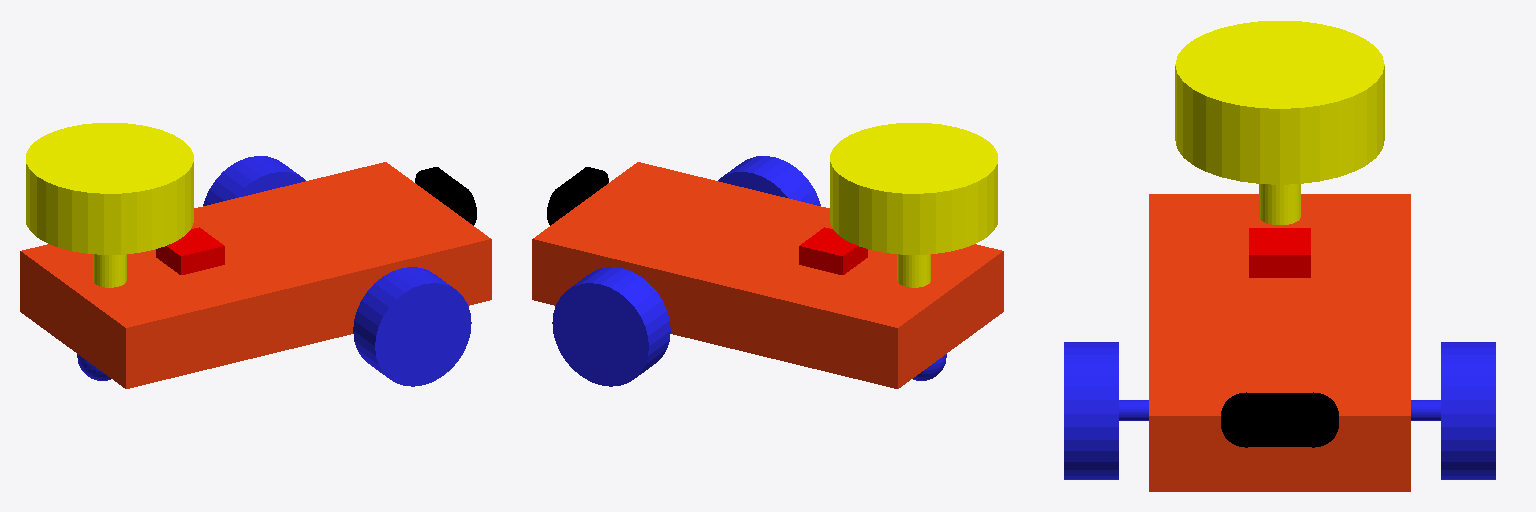
--- Render facts (derived) ---
3 views of the same robot in one strip: view 1: azimuth 30°, elevation 25°; view 2: azimuth 150°, elevation 25°; view 3: azimuth 270°, elevation 25° (orthographic).
Model robot with 17 links and 16 joints (6 revolute, 2 continuous, 8 fixed), rooted at base_link, posed all joints at 0.
Links seen in each view (by area): view 1: chassis, laser_frame, right_wheel, left_wheel, imu_link, camera_link; view 2: chassis, laser_frame, left_wheel, right_wheel, imu_link, camera_link; view 3: chassis, laser_frame, left_wheel, right_wheel, camera_link, imu_link.
Boxes of the visible links, x1,y1,x2,y2 form: chassis: [20, 162, 491, 388]; laser_frame: [26, 123, 193, 287]; right_wheel: [353, 267, 471, 386]; left_wheel: [203, 156, 305, 205]; imu_link: [156, 227, 224, 274]; camera_link: [415, 167, 476, 225]; chassis: [532, 162, 1003, 388]; laser_frame: [830, 123, 997, 287]; left_wheel: [552, 267, 670, 386]; right_wheel: [718, 156, 820, 205]; imu_link: [799, 227, 867, 274]; camera_link: [547, 167, 608, 225]; chassis: [1149, 194, 1410, 491]; laser_frame: [1175, 21, 1384, 224]; left_wheel: [1411, 342, 1495, 479]; right_wheel: [1064, 342, 1148, 479]; camera_link: [1221, 392, 1338, 447]; imu_link: [1249, 228, 1310, 277].
Size in the robot's own frame: 0.285 by 0.206 by 0.143 metres.
Geometry: only primitive shapes (box / cylinder / sphere) drawn; not drawn: 7 mesh visuals (reference in a form the renderer does not follow).

The robot description file, URDF, robot "robot":
<?xml version="1.0" ?>
<!-- =================================================================================== -->
<!-- |    This document was autogenerated by xacro from ./src/articubot_one/description/robot.urdf.xacro | -->
<!-- |    EDITING THIS FILE BY HAND IS NOT RECOMMENDED                                 | -->
<!-- =================================================================================== -->
<robot name="robot">
  <!-- Specify some standard inertial calculations https://en.wikipedia.org/wiki/List_of_moments_of_inertia -->
  <!-- These make use of xacro's mathematical functionality -->
  <material name="white">
    <color rgba="1 1 1 1"/>
  </material>
  <material name="orange">
    <color rgba="1 0.3 0.1 1"/>
  </material>
  <material name="blue">
    <color rgba="0.2 0.2 1 1"/>
  </material>
  <material name="black">
    <color rgba="0 0 0 1"/>
  </material>
  <material name="red">
    <color rgba="1 0 0 1"/>
  </material>
  <material name="yellow">
    <color rgba="1 1 0 1"/>
  </material>
  <material name="green">
    <color rgba="0 1 0 1"/>
  </material>
  <material name="grey">
    <color rgba="0.2 0.2 0.2 1.0"/>
  </material>
  <material name="brown">
    <color rgba="0.8705882352941177 0.8117647058823529 0.7647058823529411 1.0"/>
  </material>
  <!-- BASE LINK -->
  <link name="base_link">

    </link>
  <!-- BASE_FOOTPRINT LINK -->
  <joint name="base_footprint_joint" type="fixed">
    <parent link="base_link"/>
    <child link="base_footprint"/>
    <origin rpy="0 0 0" xyz="0 0 0"/>
  </joint>
  <link name="base_footprint">
    </link>
  <!-- CHASSIS LINK -->
  <joint name="chassis_joint" type="fixed">
    <parent link="base_link"/>
    <child link="chassis"/>
    <origin xyz="-0.18 0 -0.01"/>
  </joint>
  <link name="chassis">
    <visual>
      <origin xyz="0.125 0 0.02"/>
      <geometry>
        <box size="0.25 0.125 0.04"/>
      </geometry>
      <material name="orange"/>
    </visual>
    <collision>
      <origin xyz="0.125 0 0.02"/>
      <geometry>
        <box size="0.25 0.125 0.04"/>
      </geometry>
    </collision>
    <inertial>
      <origin rpy="0 0 0" xyz="0.125 0 0.02"/>
      <mass value="2.0"/>
      <inertia ixx="0.0028708333333333333" ixy="0.0" ixz="0.0" iyy="0.010683333333333333" iyz="0.0" izz="0.013020833333333332"/>
    </inertial>
  </link>
  <gazebo reference="chassis">
    <material>Gazebo/Orange</material>
  </gazebo>
  <!-- <joint name="chassis_extension_joint" type="fixed">
        <parent link="chassis"/>
        <child link="chassis_extension"/>
        <origin xyz="${chassis_length} 0 ${wheel_radius}"/>
    </joint>

    <link name="chassis_extension">
        <visual>
            <origin xyz="${chassis_extension_length/2} 0 ${chassis_extension_height/2}"/>
            <geometry>
                <box size="${chassis_extension_length} ${chassis_width} ${chassis_extension_height}"/>
            </geometry>
            <material name="orange"/>
        </visual>
        <collision>
            <origin xyz="${chassis_extension_length/2} 0 ${chassis_extension_height/2}"/>
            <geometry>
                <box size="${chassis_extension_length} ${chassis_width} ${chassis_extension_height}"/>
            </geometry>
        </collision>
        <xacro:inertial_box mass="0.01" x="${chassis_extension_length}" y="${chassis_width}" z="${chassis_extension_height}">
            <origin xyz="${chassis_extension_length/2} 0 ${chassis_extension_height/2}" rpy="0 0 0"/>
        </xacro:inertial_box>
    </link>

    <gazebo reference="chassis_extension">
        <material>Gazebo/Orange</material>
    </gazebo> -->
  <!-- LEFT WHEEL LINK -->
  <joint name="left_wheel_joint" type="continuous">
    <parent link="base_link"/>
    <child link="left_wheel"/>
    <origin rpy="-1.5707963267948966 0 0" xyz="0 0.09 0"/>
    <axis xyz="0 0 1"/>
  </joint>
  <link name="left_wheel">
    <visual>
      <geometry>
        <cylinder length="0.026" radius="0.033"/>
      </geometry>
      <material name="blue"/>
    </visual>
    <visual>
      <origin rpy="0 0 0" xyz="0 0 -0.013"/>
      <geometry>
        <cylinder length="0.03" radius="0.005"/>
      </geometry>
      <material name="blue"/>
    </visual>
    <collision>
      <geometry>
        <sphere radius="0.033"/>
      </geometry>
    </collision>
    <inertial>
      <origin rpy="0 0 0" xyz="0 0 0"/>
      <mass value="0.05"/>
      <inertia ixx="1.642916666666667e-05" ixy="0.0" ixz="0.0" iyy="1.642916666666667e-05" iyz="0.0" izz="2.7225000000000004e-05"/>
    </inertial>
  </link>
  <gazebo reference="left_wheel">
    <material>Gazebo/Blue</material>
  </gazebo>
  <!-- RIGHT WHEEL LINK -->
  <joint name="right_wheel_joint" type="continuous">
    <parent link="base_link"/>
    <child link="right_wheel"/>
    <origin rpy="1.5707963267948966 0 0" xyz="0 -0.09 0"/>
    <axis xyz="0 0 -1"/>
  </joint>
  <link name="right_wheel">
    <visual>
      <geometry>
        <cylinder length="0.026" radius="0.033"/>
      </geometry>
      <material name="blue"/>
    </visual>
    <visual>
      <origin rpy="0 0 0" xyz="0 0 -0.013"/>
      <geometry>
        <cylinder length="0.03" radius="0.005"/>
      </geometry>
      <material name="blue"/>
    </visual>
    <collision>
      <geometry>
        <sphere radius="0.033"/>
      </geometry>
    </collision>
    <inertial>
      <origin rpy="0 0 0" xyz="0 0 0"/>
      <mass value="0.05"/>
      <inertia ixx="1.642916666666667e-05" ixy="0.0" ixz="0.0" iyy="1.642916666666667e-05" iyz="0.0" izz="2.7225000000000004e-05"/>
    </inertial>
  </link>
  <gazebo reference="right_wheel">
    <material>Gazebo/Blue</material>
  </gazebo>
  <!-- CASTER WHEEL LINK -->
  <joint name="caster_wheel_joint" type="fixed">
    <parent link="chassis"/>
    <child link="caster_wheel"/>
    <origin xyz="0.02 0 -0.008"/>
  </joint>
  <link name="caster_wheel">
    <visual>
      <geometry>
        <sphere radius="0.015"/>
      </geometry>
      <material name="blue"/>
    </visual>
    <collision>
      <geometry>
        <sphere radius="0.015"/>
      </geometry>
    </collision>
    <inertial>
      <origin rpy="0 0 0" xyz="0 0 0"/>
      <mass value="0.01"/>
      <inertia ixx="9e-07" ixy="0.0" ixz="0.0" iyy="9e-07" iyz="0.0" izz="9e-07"/>
    </inertial>
  </link>
  <gazebo reference="caster_wheel">
    <material>Gazebo/Blue</material>
    <mu1 value="0.001"/>
    <mu2 value="0.001"/>
  </gazebo>
  <ros2_control name="RealRobot" type="system">
    <hardware>
      <plugin>ros2_control_demo_example_2/DiffBotSystemHardware</plugin>
      <param name="example_param_hw_start_duration_sec">0</param>
      <param name="example_param_hw_stop_duration_sec">3.0</param>
    </hardware>
    <joint name="left_wheel_joint">
      <command_interface name="velocity"/>
      <state_interface name="position"/>
      <state_interface name="velocity"/>
    </joint>
    <joint name="right_wheel_joint">
      <command_interface name="velocity"/>
      <state_interface name="position"/>
      <state_interface name="velocity"/>
    </joint>
  </ros2_control>
  <ros2_control name="RealRobotArm" type="system">
    <hardware>
      <plugin>ros2_control_demo_example_1/RRBotSystemPositionOnlyHardware</plugin>
      <param name="example_param_hw_start_duration_sec">0</param>
      <param name="example_param_hw_stop_duration_sec">3.0</param>
      <param name="example_param_hw_slowdown">1.0</param>
    </hardware>
    <joint name="base_waist_joint">
      <command_interface name="position">
        <param name="min">-1</param>
        <param name="max">1</param>
      </command_interface>
      <state_interface name="position"/>
    </joint>
    <joint name="shoulder_joint">
      <command_interface name="position">
        <param name="min">-1</param>
        <param name="max">1</param>
      </command_interface>
      <state_interface name="position"/>
    </joint>
    <joint name="elbow_joint">
      <command_interface name="position">
        <param name="min">-1</param>
        <param name="max">1</param>
      </command_interface>
      <state_interface name="position"/>
    </joint>
    <joint name="wrist_joint">
      <command_interface name="position">
        <param name="min">-1</param>
        <param name="max">1</param>
      </command_interface>
      <state_interface name="position"/>
    </joint>
    <joint name="gripper1_joint">
      <command_interface name="position">
        <param name="min">-1</param>
        <param name="max">1</param>
      </command_interface>
      <state_interface name="position"/>
    </joint>
    <joint name="gripper2_joint">
      <command_interface name="position">
        <param name="min">-1</param>
        <param name="max">1</param>
      </command_interface>
      <state_interface name="position"/>
    </joint>
  </ros2_control>
  <gazebo>
    <plugin filename="libgazebo_ros2_control.so" name="gazebo_ros2_control">
      <parameters>[local-path]/Documents/Projects/pinecone_pi4_ws/install/articubot_one/share/articubot_one/config/my_controllers.yaml</parameters>
      <parameters>[local-path]/Documents/Projects/pinecone_pi4_ws/install/articubot_one/share/articubot_one/config/gaz_ros2_ctl_use_sim.yaml</parameters>
      <!-- <parameters>$(find arduino_arm_config)/config/ros2_controllers.yaml</parameters> -->
      <!-- <parameters>$(find articubot_one)/config/forward_position_publisher.yaml</parameters> -->
    </plugin>
  </gazebo>
  <joint name="laser_joint" type="fixed">
    <parent link="chassis"/>
    <child link="laser_frame"/>
    <origin rpy="0 0 0" xyz="0.025 0 0.10"/>
  </joint>
  <link name="laser_frame">
    <visual>
      <geometry>
        <cylinder length="0.04" radius="0.05"/>
      </geometry>
      <material name="yellow"/>
    </visual>
    <visual>
      <origin xyz="0 0 -0.05"/>
      <geometry>
        <cylinder length="0.1" radius="0.01"/>
      </geometry>
      <material name="yellow"/>
    </visual>
    <collision>
      <geometry>
        <cylinder length="0.04" radius="0.05"/>
      </geometry>
    </collision>
    <inertial>
      <origin rpy="0 0 0" xyz="0 0 0"/>
      <mass value="0.1"/>
      <inertia ixx="7.583333333333335e-05" ixy="0.0" ixz="0.0" iyy="7.583333333333335e-05" iyz="0.0" izz="0.00012500000000000003"/>
    </inertial>
  </link>
  <gazebo reference="laser_frame">
    <material>Gazebo/Yellow</material>
    <sensor name="laser" type="ray">
      <pose> 0 0 0 0 0 0 </pose>
      <visualize>false</visualize>
      <update_rate>10</update_rate>
      <ray>
        <scan>
          <horizontal>
            <samples>360</samples>
            <min_angle>-3.14</min_angle>
            <max_angle>3.14</max_angle>
          </horizontal>
        </scan>
        <range>
          <min>0.3</min>
          <max>12</max>
        </range>
      </ray>
      <plugin filename="libgazebo_ros_ray_sensor.so" name="laser_controller">
        <ros>
          <argument>~/out:=scan</argument>
        </ros>
        <output_type>sensor_msgs/LaserScan</output_type>
        <frame_name>laser_frame</frame_name>
      </plugin>
    </sensor>
  </gazebo>
  <joint name="camera_joint" type="fixed">
    <parent link="chassis"/>
    <child link="camera_link"/>
    <origin rpy="0 0 0" xyz="0.255 0 0.04"/>
  </joint>
  <link name="camera_link">
    <visual>
      <geometry>
        <box size="0.010 0.038 0.024"/>
      </geometry>
      <material name="black"/>
    </visual>
    <visual>
      <origin rpy="0 1.5707963267948966 0" xyz="0 0.016 0"/>
      <geometry>
        <cylinder length="0.01" radius="0.0122"/>
      </geometry>
      <material name="black"/>
    </visual>
    <visual>
      <origin rpy="0 1.5707963267948966 0" xyz="0 -0.016 0"/>
      <geometry>
        <cylinder length="0.01" radius="0.0122"/>
      </geometry>
      <material name="black"/>
    </visual>
    <!-- <visual>
            <origin xyz="0 0 -0.02"/>
            <geometry>
                <cylinder radius="0.002" length="0.06"/>
            </geometry>
            <material name="black"/>
        </visual> -->
    <collision>
      <geometry>
        <box size="0.001 0.001 0.001"/>
      </geometry>
    </collision>
  </link>
  <joint name="camera_optical_joint" type="fixed">
    <parent link="camera_link"/>
    <child link="camera_link_optical"/>
    <origin rpy="-1.5707963267948966 0 -1.5707963267948966" xyz="0 0 0"/>
  </joint>
  <link name="camera_link_optical"/>
  <gazebo reference="camera_link">
    <material>Gazebo/Black</material>
    <sensor name="camera" type="camera">
      <pose> 0 0 0 0 0 0 </pose>
      <visualize>true</visualize>
      <update_rate>10</update_rate>
      <camera>
        <horizontal_fov>1.089</horizontal_fov>
        <image>
          <format>R8G8B8</format>
          <width>640</width>
          <height>480</height>
        </image>
        <clip>
          <near>0.05</near>
          <far>8.0</far>
        </clip>
      </camera>
      <plugin filename="libgazebo_ros_camera.so" name="camera_controller">
        <frame_name>camera_link_optical</frame_name>
      </plugin>
    </sensor>
  </gazebo>
  <joint name="imu_joint" type="fixed">
    <parent link="chassis"/>
    <child link="imu_link"/>
    <origin rpy="0 0 0" xyz="0.08 0 0.045"/>
  </joint>
  <link name="imu_link">
    <visual>
      <geometry>
        <box size="0.03 0.03 0.015"/>
      </geometry>
      <material name="red"/>
    </visual>
    <collision>
      <geometry>
        <box size="0.05 0.05 0.05"/>
      </geometry>
    </collision>
    <inertial>
      <origin rpy="0 0 0" xyz="0 0 0"/>
      <mass value="0.01"/>
      <inertia ixx="4.166666666666667e-06" ixy="0.0" ixz="0.0" iyy="4.166666666666667e-06" iyz="0.0" izz="4.166666666666667e-06"/>
    </inertial>
  </link>
  <gazebo reference="imu_link">
    <material>Gazebo/Red</material>
    <gravity>true</gravity>
    <sensor name="twr_imu" type="imu">
      <always_on>true</always_on>
      <update_rate>100</update_rate>
      <visualize>true</visualize>
      <imu>
        <orientation>
          <x>
            <noise type="gaussian">
              <mean>0.0</mean>
              <stddev>2e-3</stddev>
            </noise>
          </x>
          <y>
            <noise type="gaussian">
              <mean>0.0</mean>
              <stddev>2e-3</stddev>
            </noise>
          </y>
          <z>
            <noise type="gaussian">
              <mean>0.0</mean>
              <stddev>2e-3</stddev>
            </noise>
          </z>
        </orientation>
        <angular_velocity>
          <x>
            <noise type="gaussian">
              <mean>0.0</mean>
              <stddev>2e-4</stddev>
            </noise>
          </x>
          <y>
            <noise type="gaussian">
              <mean>0.0</mean>
              <stddev>2e-4</stddev>
            </noise>
          </y>
          <z>
            <noise type="gaussian">
              <mean>0.0</mean>
              <stddev>2e-4</stddev>
            </noise>
          </z>
        </angular_velocity>
        <linear_acceleration>
          <x>
            <noise type="gaussian">
              <mean>0.0</mean>
              <stddev>1.7e-2</stddev>
            </noise>
          </x>
          <y>
            <noise type="gaussian">
              <mean>0.0</mean>
              <stddev>1.7e-2</stddev>
            </noise>
          </y>
          <z>
            <noise type="gaussian">
              <mean>0.0</mean>
              <stddev>1.7e-2</stddev>
            </noise>
          </z>
        </linear_acceleration>
      </imu>
      <plugin filename="libgazebo_ros_imu_sensor.so" name="two_wheeled_robot_imu">
        <initial_orientation_as_reference>false</initial_orientation_as_reference>
        <frame_name>imu_link</frame_name>
        <ros>
          <namespace>/imu</namespace>
          <remapping>~/out:=data</remapping>
        </ros>
      </plugin>
    </sensor>
  </gazebo>
  <!-- <xacro:include filename="depth_camera.xacro" /> -->
  <!-- <xacro:include filename="face.xacro" /> -->
  <!-- <?xml version="1.0"?> -->
  <!-- created with Phobos 1.0.1 "Capricious Choutengan" -->
  <!-- <robot name="arduino_arm"> -->
  <!-- <link name="base_link"/> -->
  <joint name="base_link_arduino_arm_joint" type="fixed">
    <parent link="chassis"/>
    <child link="base_link_arduino_arm"/>
    <origin rpy="0 0 0" xyz="0.18 0 0.056"/>
  </joint>
  <link name="base_link_arduino_arm">
    <inertial>
      <origin rpy="0 0 0" xyz="0 0 0"/>
      <mass value="0.01"/>
      <inertia ixx="0.001" ixy="0" ixz="0" iyy="0.001" iyz="0" izz="0.001"/>
    </inertial>
    <visual>
      <origin rpy="1.5708 0 0" xyz="0 0 0"/>
      <geometry>
        <mesh filename="file://[local-path]/Documents/Projects/pinecone_pi4_ws/install/arduino_arm/share/arduino_arm/meshes/Base.stl" scale="0.00098 0.00098 0.00098"/>
      </geometry>
      <material name="">
        <color rgba="0 1 0 1"/>
      </material>
    </visual>
    <collision>
      <origin rpy="3.14159 0 0" xyz="-0.0029 0.00016 0.01165"/>
      <geometry>
        <cylinder length="0.05469" radius="0.0592"/>
      </geometry>
    </collision>
  </link>
  <link name="waist_link">
    <inertial>
      <origin rpy="0 0 0" xyz="0 0 0"/>
      <mass value="0.001"/>
      <inertia ixx="0.001" ixy="0" ixz="0" iyy="0.001" iyz="0" izz="0.001"/>
    </inertial>
    <visual>
      <origin rpy="1.5708 0 0" xyz="0 0 0"/>
      <geometry>
        <mesh filename="file://[local-path]/Documents/Projects/pinecone_pi4_ws/install/arduino_arm/share/arduino_arm/meshes/Waist.stl" scale="0.00098 0.00098 0.00098"/>
      </geometry>
      <material name="">
        <color rgba="0 1 0 1"/>
      </material>
    </visual>
    <collision>
      <origin rpy="1.5708 0 0" xyz="0.00019 0 3e-05"/>
      <geometry>
        <mesh filename="file://[local-path]/Documents/Projects/pinecone_pi4_ws/install/arduino_arm/share/arduino_arm/meshes/Waist.001.stl" scale="0.00392 0.00392 0.00392"/>
      </geometry>
    </collision>
  </link>
  <link name="arm1_link">
    <inertial>
      <origin rpy="0 0 0" xyz="0 0 0"/>
      <mass value="0.001"/>
      <inertia ixx="0.001" ixy="0" ixz="0" iyy="0.001" iyz="0" izz="0.001"/>
    </inertial>
    <visual>
      <origin rpy="0 0 0" xyz="0 0 0"/>
      <geometry>
        <mesh filename="file://[local-path]/Documents/Projects/pinecone_pi4_ws/install/arduino_arm/share/arduino_arm/meshes/Arm_01.stl" scale="0.00098 0.00098 0.00098"/>
      </geometry>
      <material name="">
        <color rgba="0 1 0 1"/>
      </material>
    </visual>
    <collision>
      <origin rpy="0 0 0" xyz="-0.00032 0.05624 0.00439"/>
      <geometry>
        <box size="0.04221 0.16277 0.02051"/>
      </geometry>
    </collision>
  </link>
  <link name="arm2_link">
    <inertial>
      <origin rpy="0 0 0" xyz="0 0 0"/>
      <mass value="0.001"/>
      <inertia ixx="0.001" ixy="0" ixz="0" iyy="0.001" iyz="0" izz="0.001"/>
    </inertial>
    <visual>
      <origin rpy="-1.48894 -1.57209 1.57067" xyz="0 0 0"/>
      <geometry>
        <mesh filename="file://[local-path]/Documents/Projects/pinecone_pi4_ws/install/arduino_arm/share/arduino_arm/meshes/Arm_02.stl" scale="0.00098 0.00098 0.00098"/>
      </geometry>
      <material name="">
        <color rgba="0 1 0 1"/>
      </material>
    </visual>
    <collision>
      <origin rpy="-1.48879 -1.57209 1.57066" xyz="-0.00436 0.05688 0.00738"/>
      <geometry>
        <box size="0.02681 0.16398 0.0384"/>
      </geometry>
    </collision>
  </link>
  <link name="arm3_link">
    <inertial>
      <origin rpy="0 0 0" xyz="0 0 0"/>
      <mass value="0.0001"/>
      <inertia ixx="0.001" ixy="0" ixz="0" iyy="0.001" iyz="0" izz="0.001"/>
    </inertial>
    <visual>
      <origin rpy="1.2416 1.55752 1.5708" xyz="0 0 0"/>
      <geometry>
        <mesh filename="file://[local-path]/Documents/Projects/pinecone_pi4_ws/install/arduino_arm/share/arduino_arm/meshes/Arm_03.stl" scale="0.00098 0.00098 0.00098"/>
      </geometry>
      <material name="">
        <color rgba="0 1 0 1"/>
      </material>
    </visual>
    <collision>
      <origin rpy="1.24161 1.55752 1.5708" xyz="-0.00062 0.00019 0.00049"/>
      <geometry>
        <mesh filename="file://[local-path]/Documents/Projects/pinecone_pi4_ws/install/arduino_arm/share/arduino_arm/meshes/Arm_03.001.stl" scale="1.0 1.0 1.0"/>
      </geometry>
    </collision>
  </link>
  <link name="gripper1_link">
    <inertial>
      <origin rpy="0 0 0" xyz="0 0 0"/>
      <mass value="0.0001"/>
      <inertia ixx="0.001" ixy="0" ixz="0" iyy="0.001" iyz="0" izz="0.001"/>
    </inertial>
    <visual>
      <origin rpy="-1.86728 0 0" xyz="0 -0.01 0.014"/>
      <geometry>
        <mesh filename="file://[local-path]/Documents/Projects/pinecone_pi4_ws/install/arduino_arm/share/arduino_arm/meshes/gripper1_fix.stl" scale="0.001 0.001 0.001"/>
      </geometry>
      <material name="">
        <color rgba="0 1 1 1"/>
      </material>
    </visual>
    <collision>
      <origin rpy="-1.86728 0 0" xyz="0 -0.01 0.014"/>
      <geometry>
        <mesh filename="file://[local-path]/Documents/Projects/pinecone_pi4_ws/install/arduino_arm/share/arduino_arm/meshes/gripper1_fix.stl" scale="0.001 0.001 0.001"/>
      </geometry>
    </collision>
  </link>
  <link name="gripper2_link">
    <inertial>
      <origin rpy="0 0 0" xyz="0 0 0"/>
      <mass value="0.0001"/>
      <inertia ixx="0.001" ixy="0" ixz="0" iyy="0.001" iyz="0" izz="0.001"/>
    </inertial>
    <visual>
      <origin rpy="1.25673 0 0" xyz="-0.0015 0.01 -0.0165"/>
      <geometry>
        <mesh filename="file://[local-path]/Documents/Projects/pinecone_pi4_ws/install/arduino_arm/share/arduino_arm/meshes/gripper2_fix.stl" scale="0.001 0.001 0.001"/>
      </geometry>
      <material name="">
        <color rgba="0 1 1 1"/>
      </material>
    </visual>
    <collision>
      <origin rpy="1.25673 0 0" xyz="-0.0015 0.01 -0.0165"/>
      <geometry>
        <mesh filename="file://[local-path]/Documents/Projects/pinecone_pi4_ws/install/arduino_arm/share/arduino_arm/meshes/gripper2_fix.stl" scale="0.001 0.001 0.001"/>
      </geometry>
      <!-- <geometry>
                <cylinder length="0.001" radius="0.001" />
            </geometry> -->
    </collision>
  </link>
  <joint name="base_waist_joint" type="revolute">
    <origin rpy="0 0 -1.5708" xyz="-0.00345 -1e-05 0.04449"/>
    <parent link="base_link_arduino_arm"/>
    <child link="waist_link"/>
    <axis xyz="0 0 1.0"/>
    <limit effort="1000.0" lower="-1.571" upper="1.571" velocity="1.0"/>
  </joint>
  <joint name="shoulder_joint" type="revolute">
    <origin rpy="1.5708 -0.022 1.5708" xyz="0.00396 0.01369 0.03521"/>
    <parent link="waist_link"/>
    <child link="arm1_link"/>
    <axis xyz="0 0 1.0"/>
    <limit effort="1000.0" lower="-1.571" upper="1.571" velocity="1.0"/>
  </joint>
  <joint name="elbow_joint" type="revolute">
    <origin rpy="-0.0013 -3.14159 -1.45" xyz="-7e-05 0.11689 -0.00792"/>
    <parent link="arm1_link"/>
    <child link="arm2_link"/>
    <axis xyz="0 0 1.0"/>
    <limit effort="1000.0" lower="-1.57" upper="1.57" velocity="1.0"/>
  </joint>
  <joint name="wrist_joint" type="revolute">
    <origin rpy="-0.01458 3.14159 1.5708" xyz="-0.0088 0.12752 -0.00487"/>
    <parent link="arm2_link"/>
    <child link="arm3_link"/>
    <axis xyz="0 0 1.0"/>
    <limit effort="1000.0" lower="-1.57" upper="1.57" velocity="1.0"/>
  </joint>
  <joint name="gripper1_joint" type="revolute">
    <origin rpy="-1.27431 -1.58408 1.5708" xyz="-0.02735 0.03009 -0.02013"/>
    <parent link="arm3_link"/>
    <child link="gripper1_link"/>
    <axis xyz="0 0 1.0"/>
    <limit effort="1000.0" lower="0" upper="1.047" velocity="1.0"/>
  </joint>
  <joint name="gripper2_joint" type="revolute">
    <origin rpy="-1.25673 -1.55752 -1.57079" xyz="-0.02492 0.03048 0.00564"/>
    <parent link="arm3_link"/>
    <child link="gripper2_link"/>
    <axis xyz="0 0 1.0"/>
    <limit effort="1000.0" lower="0" upper="1.047" velocity="1.0"/>
    <!-- <mimic joint="gripper1_joint" multiplier="1.0" offset="0.0" /> -->
  </joint>
  <transmission name="trans_base_joint">
    <type>transmission_interface/SimpleTransmission</type>
    <joint name="base_joint">
      <hardwareInterface>hardware_interface/PositionJointInterface</hardwareInterface>
    </joint>
    <actuator name="base_joint_motor">
      <hardwareInterface>hardware_interface/PositionJointInterface</hardwareInterface>
      <mechanicalReduction>1</mechanicalReduction>
    </actuator>
  </transmission>
  <transmission name="trans_shoulder">
    <type>transmission_interface/SimpleTransmission</type>
    <joint name="shoulder_joint">
      <hardwareInterface>hardware_interface/PositionJointInterface</hardwareInterface>
    </joint>
    <actuator name="shoulder_motor">
      <hardwareInterface>hardware_interface/PositionJointInterface</hardwareInterface>
      <mechanicalReduction>1</mechanicalReduction>
    </actuator>
  </transmission>
  <transmission name="trans_elbow">
    <type>transmission_interface/SimpleTransmission</type>
    <joint name="elbow_joint">
      <hardwareInterface>hardware_interface/PositionJointInterface</hardwareInterface>
    </joint>
    <actuator name="elbow_motor">
      <hardwareInterface>hardware_interface/PositionJointInterface</hardwareInterface>
      <mechanicalReduction>1</mechanicalReduction>
    </actuator>
  </transmission>
  <transmission name="trans_wrist">
    <type>transmission_interface/SimpleTransmission</type>
    <joint name="wrist_joint">
      <hardwareInterface>hardware_interface/PositionJointInterface</hardwareInterface>
    </joint>
    <actuator name="wrist_motor">
      <hardwareInterface>hardware_interface/PositionJointInterface</hardwareInterface>
      <mechanicalReduction>1</mechanicalReduction>
    </actuator>
  </transmission>
  <transmission name="trans_gripper">
    <type>transmission_interface/SimpleTransmission</type>
    <joint name="gripper1_joint">
      <hardwareInterface>hardware_interface/PositionJointInterface</hardwareInterface>
    </joint>
    <actuator name="gripper_motor">
      <hardwareInterface>hardware_interface/PositionJointInterface</hardwareInterface>
      <mechanicalReduction>1</mechanicalReduction>
    </actuator>
  </transmission>
  <!--
    <transmission name="trans_gripper2">
        <type>transmission_interface/SimpleTransmission</type>
        <joint name="gripper2_joint">
            <hardwareInterface>hardware_interface/EffortJointInterface</hardwareInterface>
        </joint>
        <actuator name="gripper2_motor">
            <hardwareInterface>hardware_interface/EffortJointInterface</hardwareInterface>
            <mechanicalReduction>1</mechanicalReduction>
        </actuator>
    </transmission>

    <gazebo>
        <plugin name="gazebo_ros2_control" filename="libgazebo_ros2_control.so">
            <robotNamespace>/</robotNamespace>
        </plugin>
    </gazebo>
-->
  <gazebo reference="base_link_arduino_arm">
    <material>Gazebo/White</material>
  </gazebo>
  <gazebo reference="waist_link">
    <material>Gazebo/Green</material>
  </gazebo>
  <gazebo reference="arm1_link">
    <material>Gazebo/Green</material>
  </gazebo>
  <gazebo reference="arm2_link">
    <material>Gazebo/Green</material>
  </gazebo>
  <gazebo reference="arm3_link">
    <material>Gazebo/White</material>
  </gazebo>
  <gazebo reference="gripper1_link">
    <material>Gazebo/White</material>
  </gazebo>
  <gazebo reference="gripper2_link">
    <material>Gazebo/White</material>
  </gazebo>

  <group name="manipulator">
    <joint name="base_waist_joint"/>
    <joint name="shoulder_joint"/>
    <joint name="elbow_joint"/>
    <joint name="wrist_joint"/>
  </group>
  <group name="gripper">
    <joint name="gripper_link1"/>
    <joint name="gripper_link1"/>
  </group>
  <group name="mobile_base">
    <joint name="planar_joint" /> <!-- planar_joint must have planar type -->
  </group>
  <group name="mobile_base_manipulator">
    <group name="manipulator" />
    <group name="gripper" />
    <group name="mobile_base" />
  </group>

</robot>
